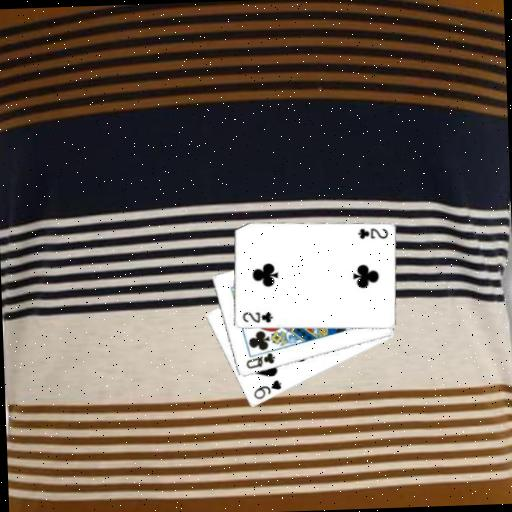2C: (239, 308, 274, 325), (354, 225, 389, 241)
9S: (250, 376, 283, 401)
QC: (242, 350, 276, 371)
